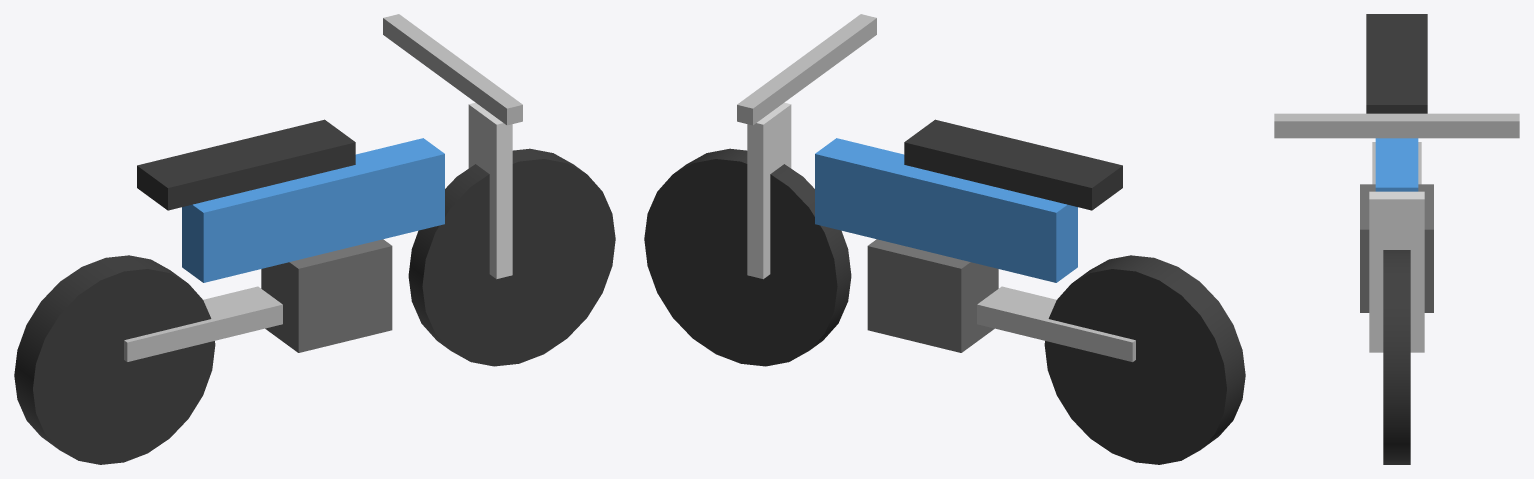
The model's file is test-bike-meshopt.glb.
3 views of the same model, side by side, from view 1: azimuth 30°, elevation 25°; view 2: azimuth 150°, elevation 25°; view 3: azimuth 270°, elevation 25° (orthographic).
Visible parts, largest first — view 1: Wheel_Front, Wheel_Rear, Frame, Engine, Seat, Fork_Lower, Swingarm, Handlebar; view 2: Wheel_Front, Wheel_Rear, Frame, Engine, Seat, Fork_Lower, Swingarm, Handlebar; view 3: Handlebar, Fork_Lower, Seat, Wheel_Front, Engine, Frame, Swingarm.
Part boxes in pixels (bbox=[...]): Wheel_Front: bbox=[408, 148, 615, 366]; Wheel_Rear: bbox=[14, 255, 215, 464]; Frame: bbox=[182, 138, 444, 282]; Engine: bbox=[261, 239, 392, 352]; Seat: bbox=[137, 119, 355, 210]; Fork_Lower: bbox=[468, 102, 512, 279]; Swingarm: bbox=[124, 286, 282, 361]; Handlebar: bbox=[383, 14, 522, 125]; Wheel_Front: bbox=[644, 148, 851, 366]; Wheel_Rear: bbox=[1044, 255, 1245, 464]; Frame: bbox=[815, 138, 1077, 282]; Engine: bbox=[867, 239, 998, 352]; Seat: bbox=[904, 119, 1122, 210]; Fork_Lower: bbox=[747, 102, 791, 279]; Swingarm: bbox=[977, 286, 1135, 361]; Handlebar: bbox=[737, 14, 876, 125]; Handlebar: bbox=[1274, 113, 1519, 138]; Fork_Lower: bbox=[1369, 191, 1424, 352]; Seat: bbox=[1366, 14, 1427, 113]; Wheel_Front: bbox=[1383, 250, 1410, 464]; Engine: bbox=[1360, 184, 1433, 312]; Frame: bbox=[1375, 138, 1418, 191]; Swingarm: bbox=[1372, 142, 1421, 184].
Bounding box in the file's own units: 218 × 111 × 80.
